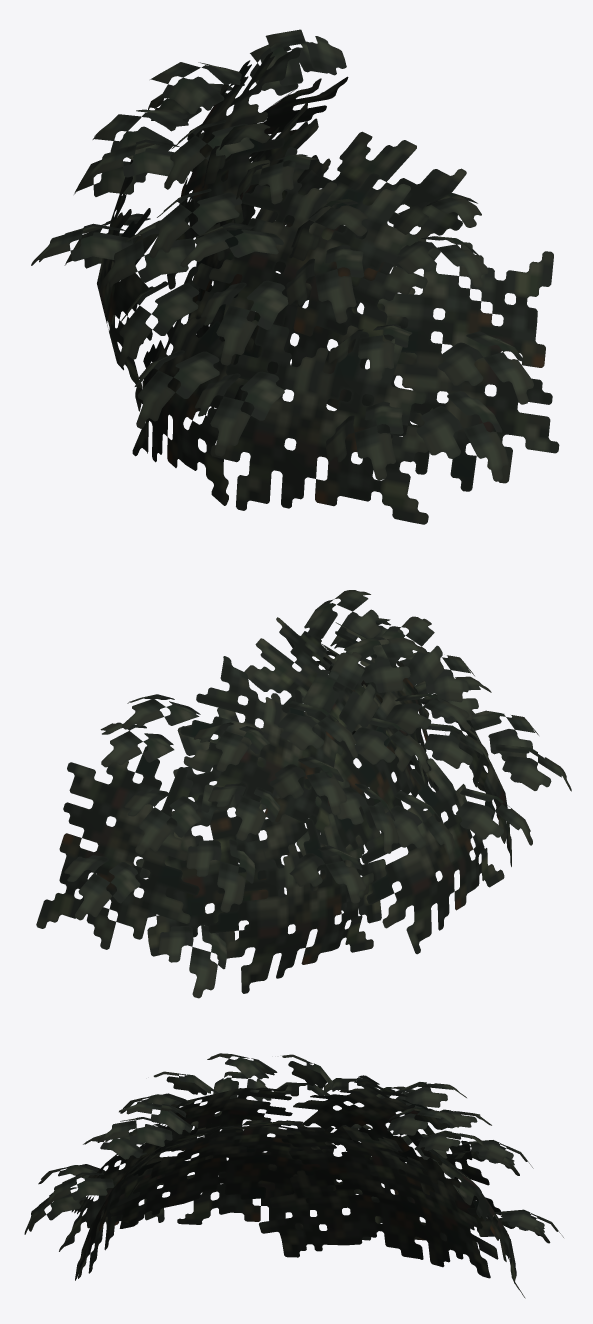
File: EnvFldMD_Grass_M_A.FBX
The picture shows the model from 3 angles, top to bottom: view 1: azimuth 30°, elevation 25°; view 2: azimuth 150°, elevation 25°; view 3: azimuth 270°, elevation 25°; orthographic projection. The views are drawn at different scales.
Parts seen in each view (by area): view 1: EnvFldMD_Grass_M_A; view 2: EnvFldMD_Grass_M_A; view 3: EnvFldMD_Grass_M_A.
Boxes of the visible parts, box(x1,y1,x2,y2) form: EnvFldMD_Grass_M_A: box(31, 29, 559, 524); EnvFldMD_Grass_M_A: box(36, 590, 571, 998); EnvFldMD_Grass_M_A: box(24, 1053, 563, 1298).
Bounding box in the file's own units: 201 × 173 × 340.
1 material, 1 textured.
